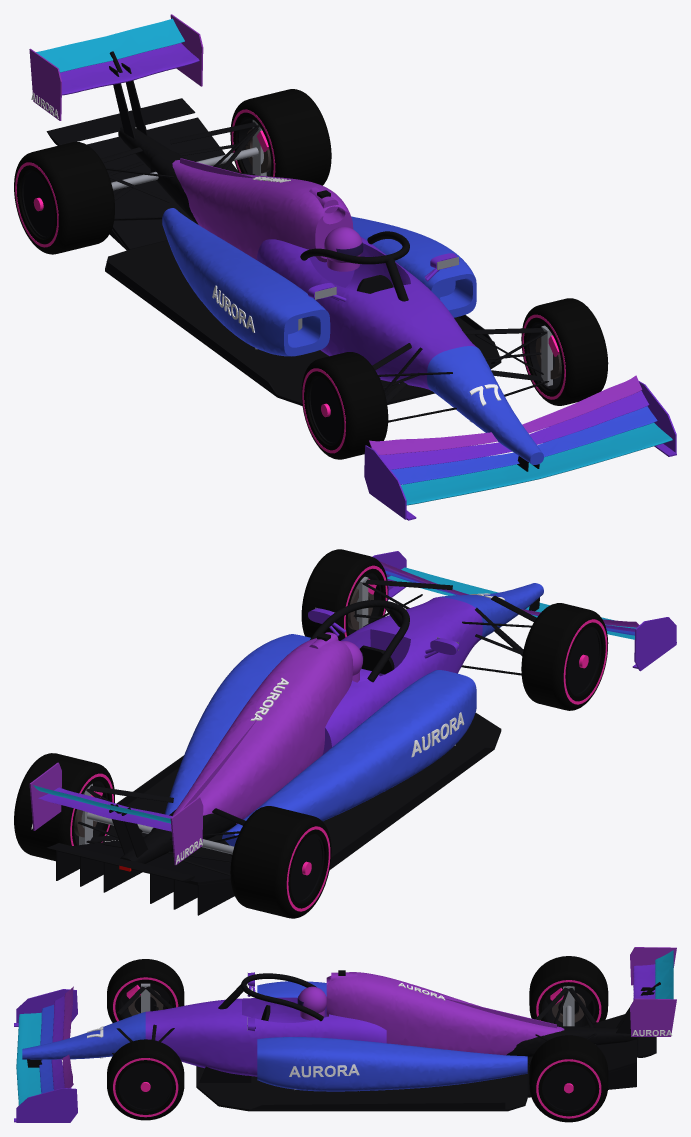
Rendered from aurora_a1.glb.
3 renders of one model, top to bottom at view 1: azimuth 30°, elevation 25°; view 2: azimuth 150°, elevation 25°; view 3: azimuth 270°, elevation 25°, orthographic. The views are drawn at different scales.
Parts seen in each view (by area): view 1: Body, Wheel_RR, Wheel_FR, Wheel_RL, Wheel_FL; view 2: Body, Wheel_RR, Wheel_FR, Wheel_RL, Wheel_FL; view 3: Body, Wheel_RL, Wheel_FL, Wheel_RR, Wheel_FR.
Boxes of the visible parts, <box> form: Body: <box>29,14,676,520</box>; Wheel_RR: <box>14,142,114,254</box>; Wheel_FR: <box>301,352,388,459</box>; Wheel_RL: <box>230,89,331,185</box>; Wheel_FL: <box>521,298,608,405</box>; Body: <box>29,551,676,915</box>; Wheel_RR: <box>230,806,331,918</box>; Wheel_FR: <box>521,603,608,710</box>; Wheel_RL: <box>14,753,114,861</box>; Wheel_FL: <box>301,549,388,640</box>; Body: <box>14,947,676,1122</box>; Wheel_RL: <box>529,1035,608,1122</box>; Wheel_FL: <box>107,1039,184,1120</box>; Wheel_RR: <box>529,956,608,1026</box>; Wheel_FR: <box>107,959,184,1022</box>.
Bounding box in the file's own units: 2 × 0.9642 × 5.64.
